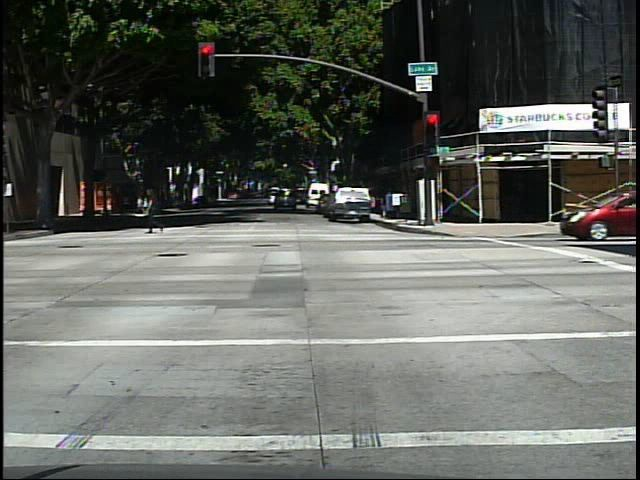person: (137, 183, 172, 236)
